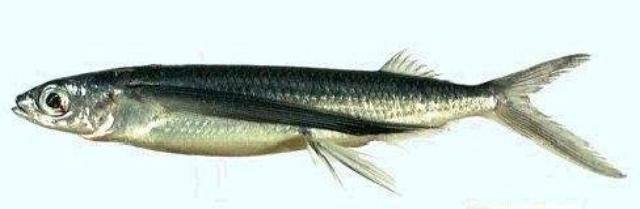Mulut: (0, 76, 38, 136)
Sirip Dada: (117, 76, 430, 150)
Sirip Ekor: (484, 45, 634, 190)
Sirip Perut: (288, 118, 409, 202)
Sirip Punggung: (371, 41, 454, 91)
